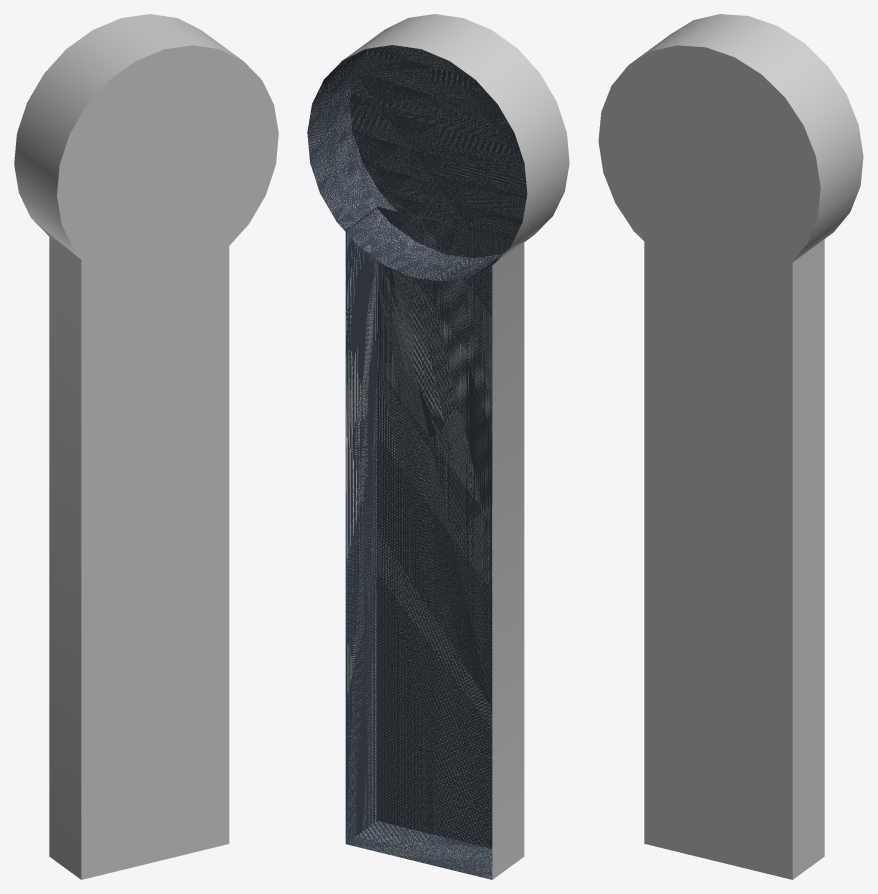
The model's file is original-10.obj.
3 views of the same model, side by side, from view 1: azimuth 30°, elevation 25°; view 2: azimuth 150°, elevation 25°; view 3: azimuth 330°, elevation 25° (orthographic).
Visible parts, largest first — view 1: 3dw.117711079f903de35c90c1d7bd498fbb/Model/mesh1/mesh1-geometry/; view 2: 3dw.117711079f903de35c90c1d7bd498fbb/Model/mesh1/mesh1-geometry/; view 3: 3dw.117711079f903de35c90c1d7bd498fbb/Model/mesh1/mesh1-geometry/.
Part boxes in pixels (x1,y1,x2,y2): 3dw.117711079f903de35c90c1d7bd498fbb/Model/mesh1/mesh1-geometry/: (14, 14, 278, 879); 3dw.117711079f903de35c90c1d7bd498fbb/Model/mesh1/mesh1-geometry/: (307, 14, 569, 879); 3dw.117711079f903de35c90c1d7bd498fbb/Model/mesh1/mesh1-geometry/: (598, 14, 863, 879).
Size of the model in its own units: 0.071 by 0.2509 by 0.0237.
